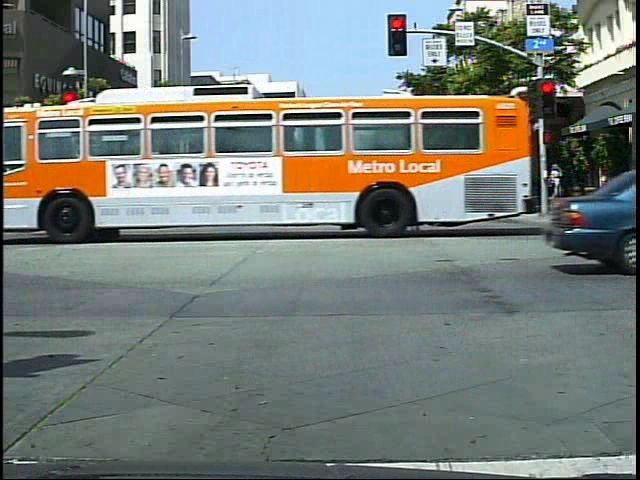person: (283, 165, 316, 229), (184, 168, 214, 234), (343, 166, 372, 230), (548, 160, 570, 211)
